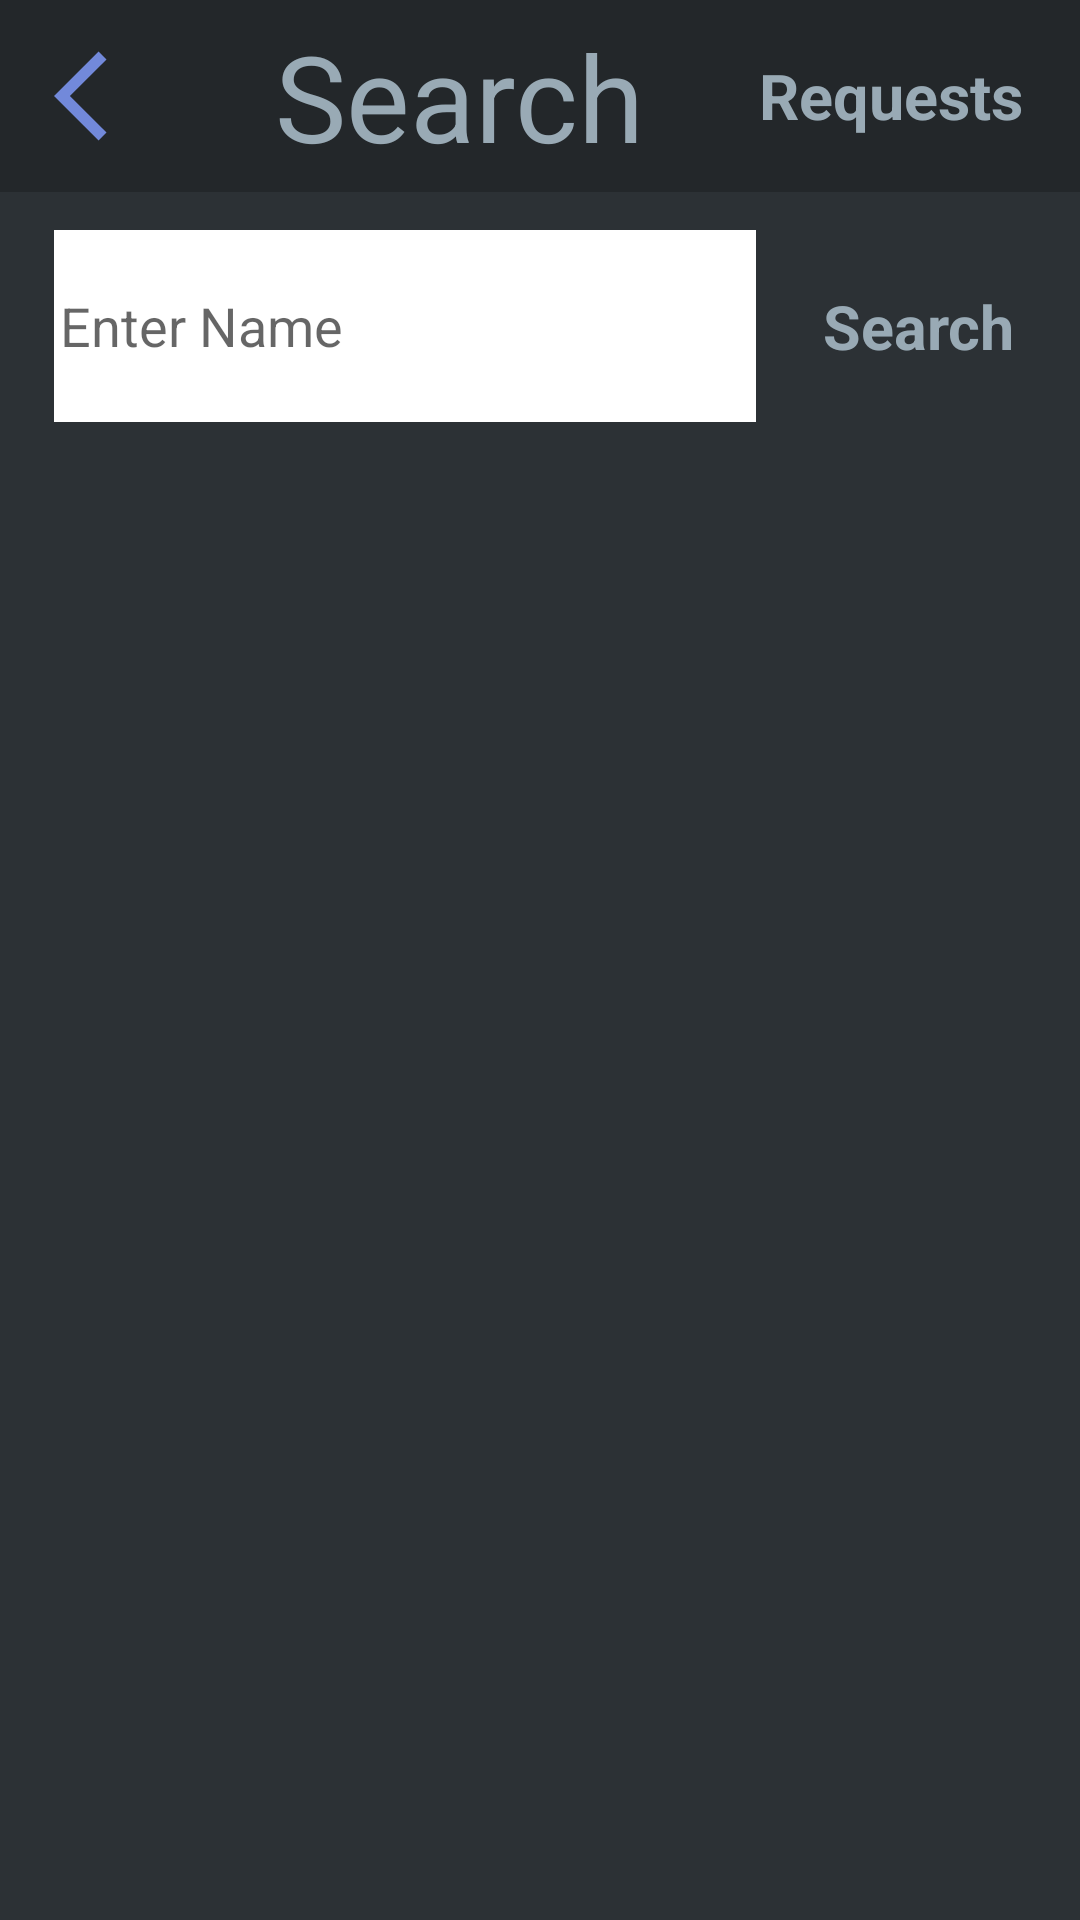

Named icons in this screenshot (1080x1920) and their centers, point (x, y):
arrow back: point (80, 96)
